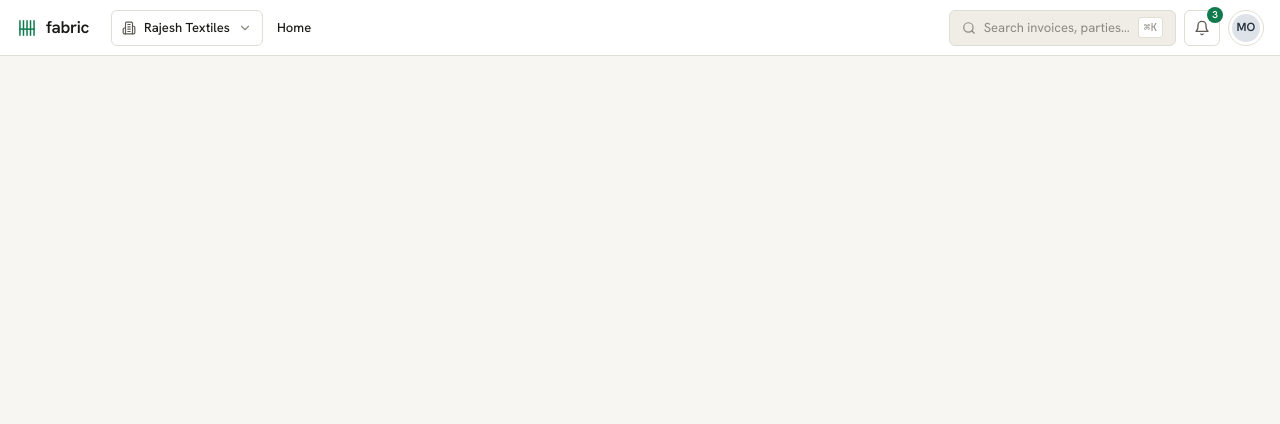
Test: Navigation audit (T7) › opens the Notifications popover from the TopBar bell
Click the button named "notifications".
click(1202, 28)  # box [1184,10,1220,46]
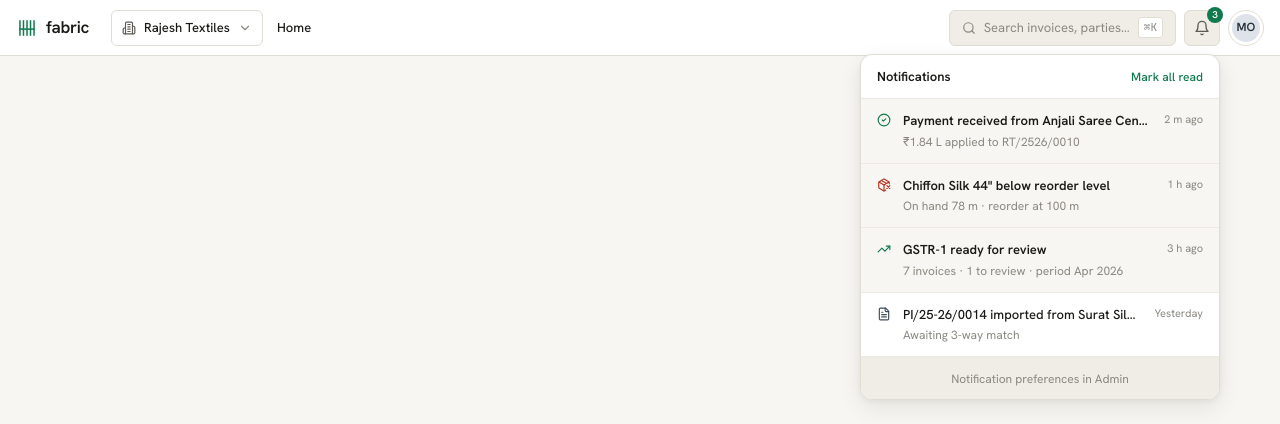
expect the menu "Notifications" is shown: met, box [860,54,1220,400]
expect the button "Mark all read" is shown: met, box [1131,68,1203,86]
